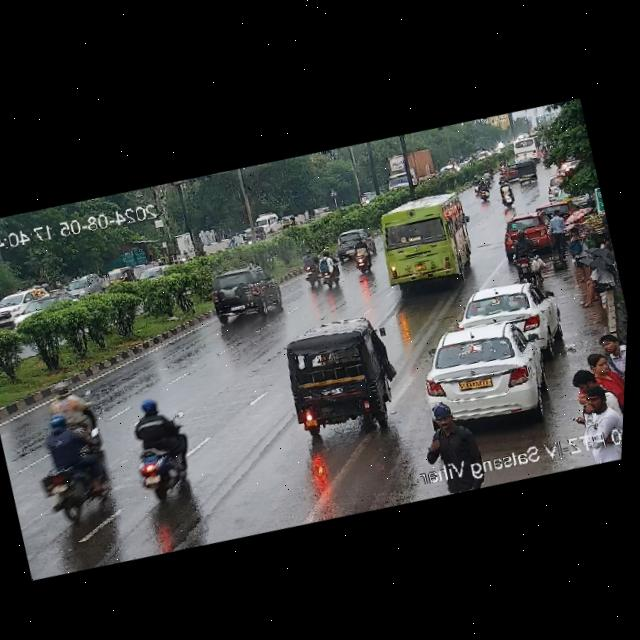bus: (370, 178, 485, 294), (509, 130, 542, 164), (253, 209, 286, 238)
car: (410, 301, 579, 442), (273, 313, 406, 447), (451, 271, 561, 353), (197, 260, 285, 332), (489, 199, 553, 263), (0, 278, 54, 333), (499, 228, 544, 285), (331, 222, 375, 264), (540, 152, 583, 184), (64, 270, 103, 302), (506, 155, 542, 189), (103, 262, 138, 291), (280, 213, 296, 231)
motorcycle: (29, 406, 118, 529), (120, 395, 201, 503), (39, 382, 103, 448), (299, 246, 343, 292), (465, 167, 499, 207), (345, 240, 380, 277), (499, 178, 517, 208)
person: (412, 403, 491, 498), (565, 329, 627, 424), (561, 375, 625, 448), (564, 242, 625, 311), (536, 207, 573, 263), (559, 219, 596, 272)
truck: (369, 145, 439, 200)
